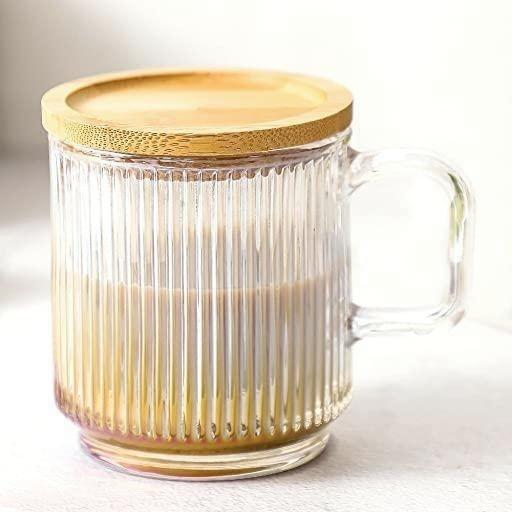glass-mug: (29, 61, 478, 487)
